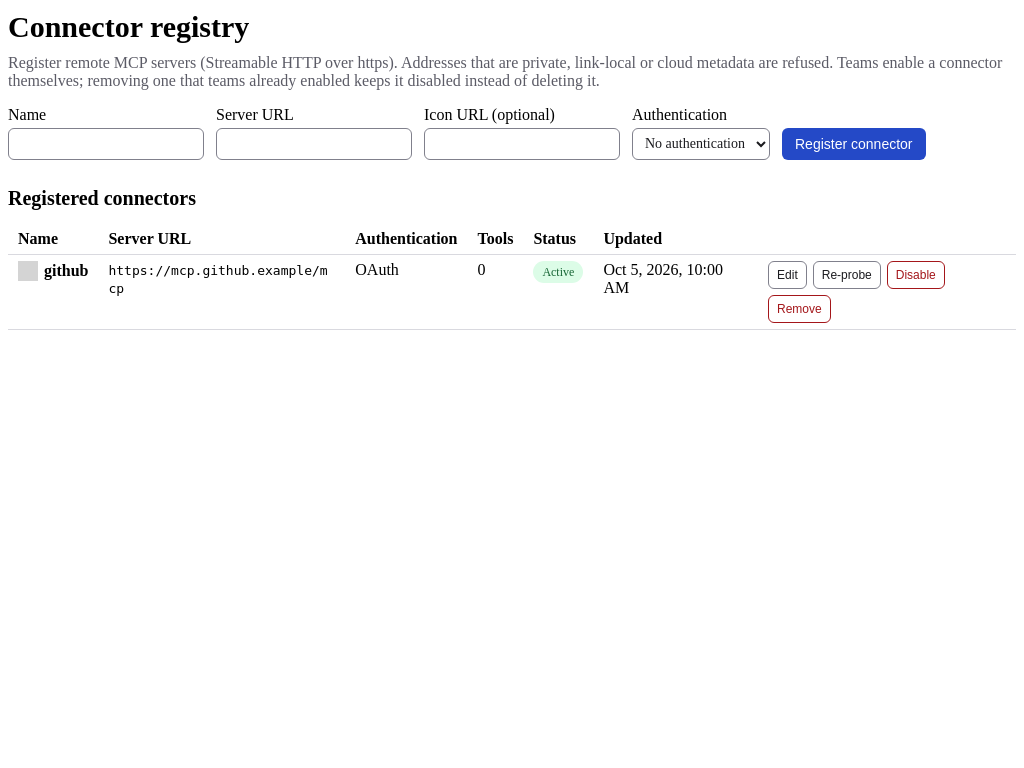
Test: Connector registry (KOBE-100) › removes after confirming and shows the server's message about teams
Click the button named "Remove github" at (799, 308), box left=768, top=294, right=831, bottom=322
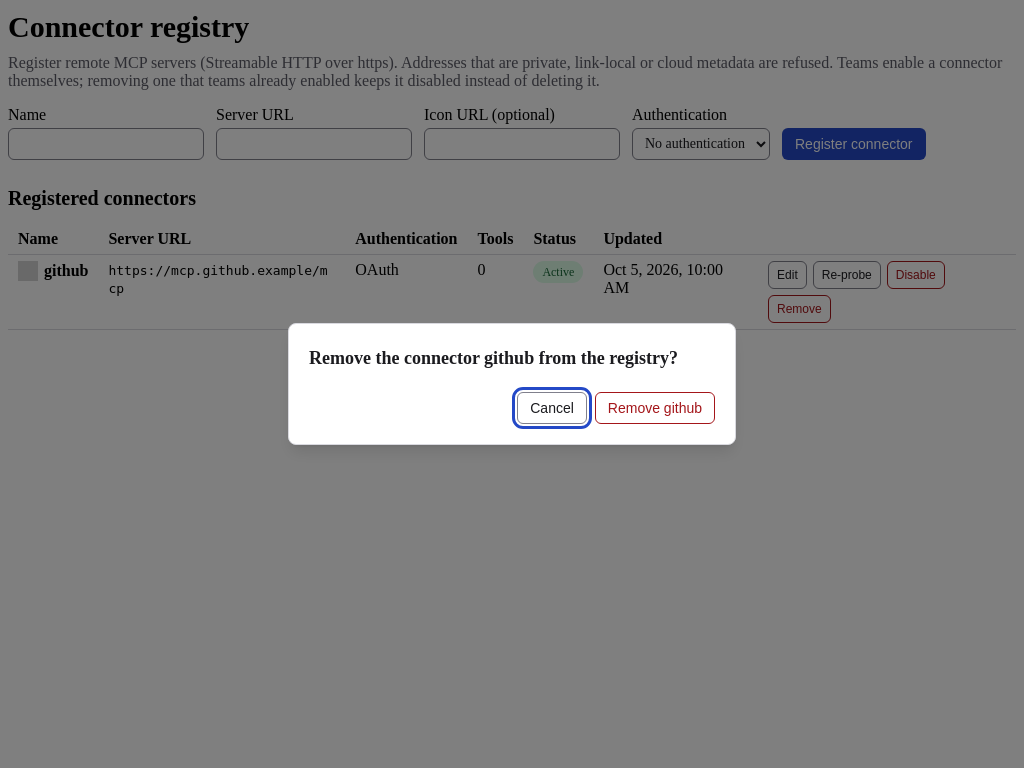
Click the button "Remove github" at (655, 408), box left=595, top=392, right=715, bottom=424
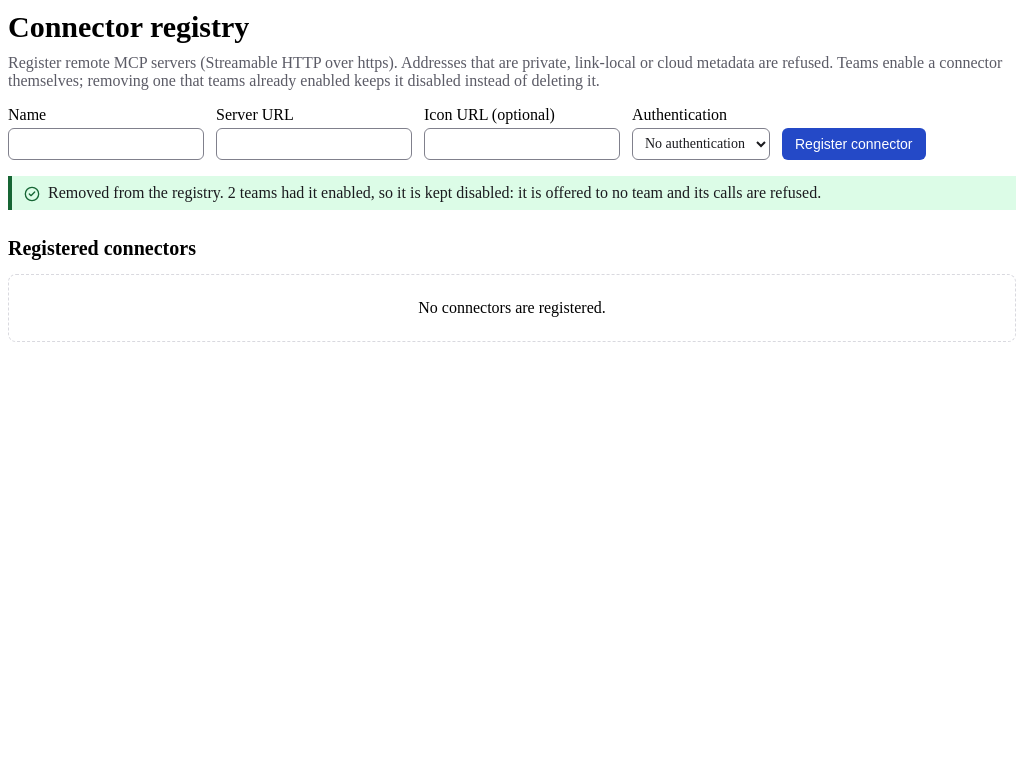
Expected: the text "Removed from the registry. 2 teams had it enabled, so it is kept disabled: it is offered to no team and its calls are re" is shown, left=48, top=184, right=821, bottom=200
Expected: the text "No connectors are registered." is shown, left=418, top=298, right=606, bottom=316
